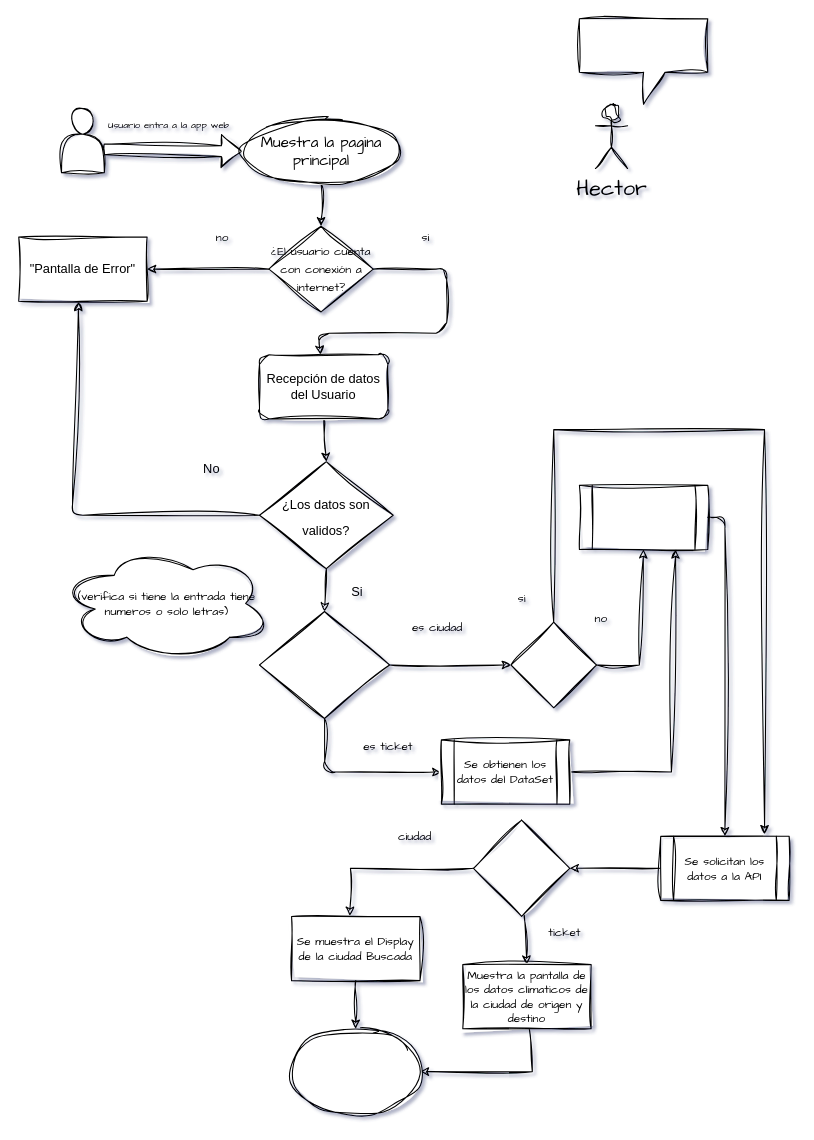
Some shapes in this 814 by 1140 pixel diagram are drawn without their labels. The box of each missing label's shape, as (x1, y1, x2, y2) in pixels:
Algoritmo de corrección de nombres: (578, 484, 708, 549)
El usuario obtiene lo que buscaba: (291, 1028, 420, 1114)
I need sex: (578, 18, 708, 104)
¿Es un ticket o una ciuad?: (258, 610, 390, 719)
¿Esta bien escrita?: (510, 621, 597, 708)
¿Fue ciudad o ticket?: (472, 819, 570, 916)
